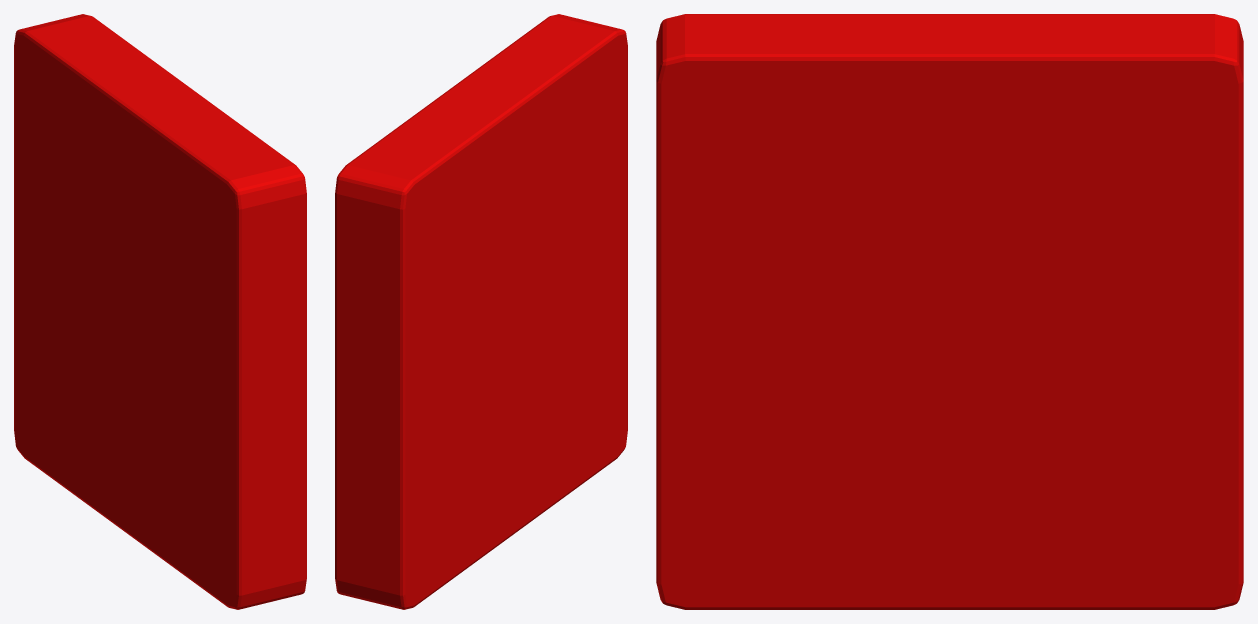
The model's file is ButtonStation_Button.fbx.
3 views of the same model, side by side, from view 1: azimuth 30°, elevation 25°; view 2: azimuth 150°, elevation 25°; view 3: azimuth 270°, elevation 25° (orthographic). The views are drawn at different scales.
Visible parts, largest first — view 1: ButtonStation_Button; view 2: ButtonStation_Button; view 3: ButtonStation_Button.
Part boxes in pixels (bbox=[...]): ButtonStation_Button: bbox=[14, 14, 306, 609]; ButtonStation_Button: bbox=[335, 14, 627, 609]; ButtonStation_Button: bbox=[656, 14, 1243, 609].
Bounding box in the file's own units: 6.17 × 36.13 × 34.61.
